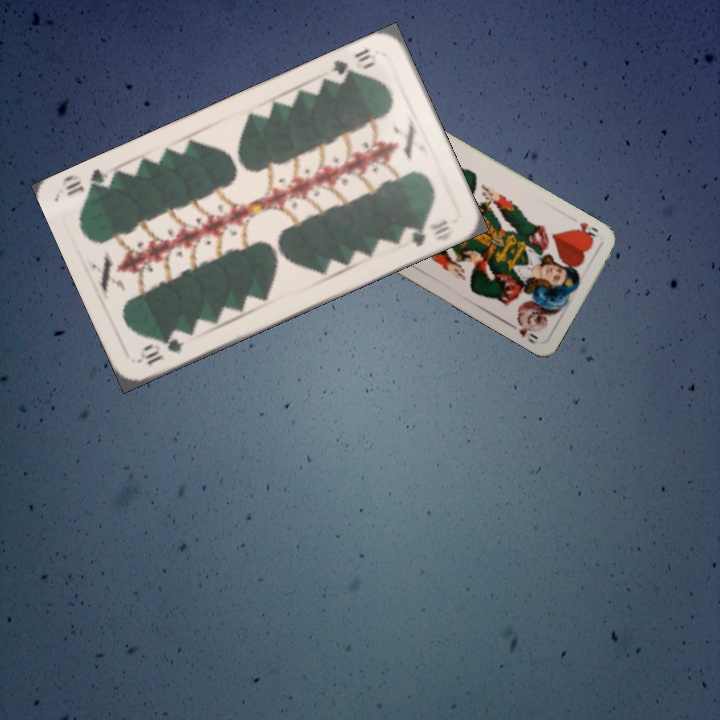G10: (329, 44, 379, 83), (135, 334, 189, 368)
HO: (569, 218, 601, 243)
